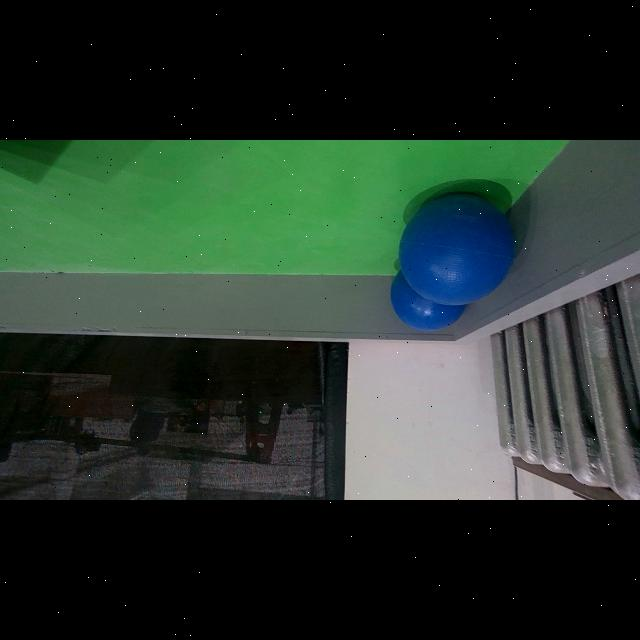B: (399, 193, 517, 305), (391, 242, 464, 330)
